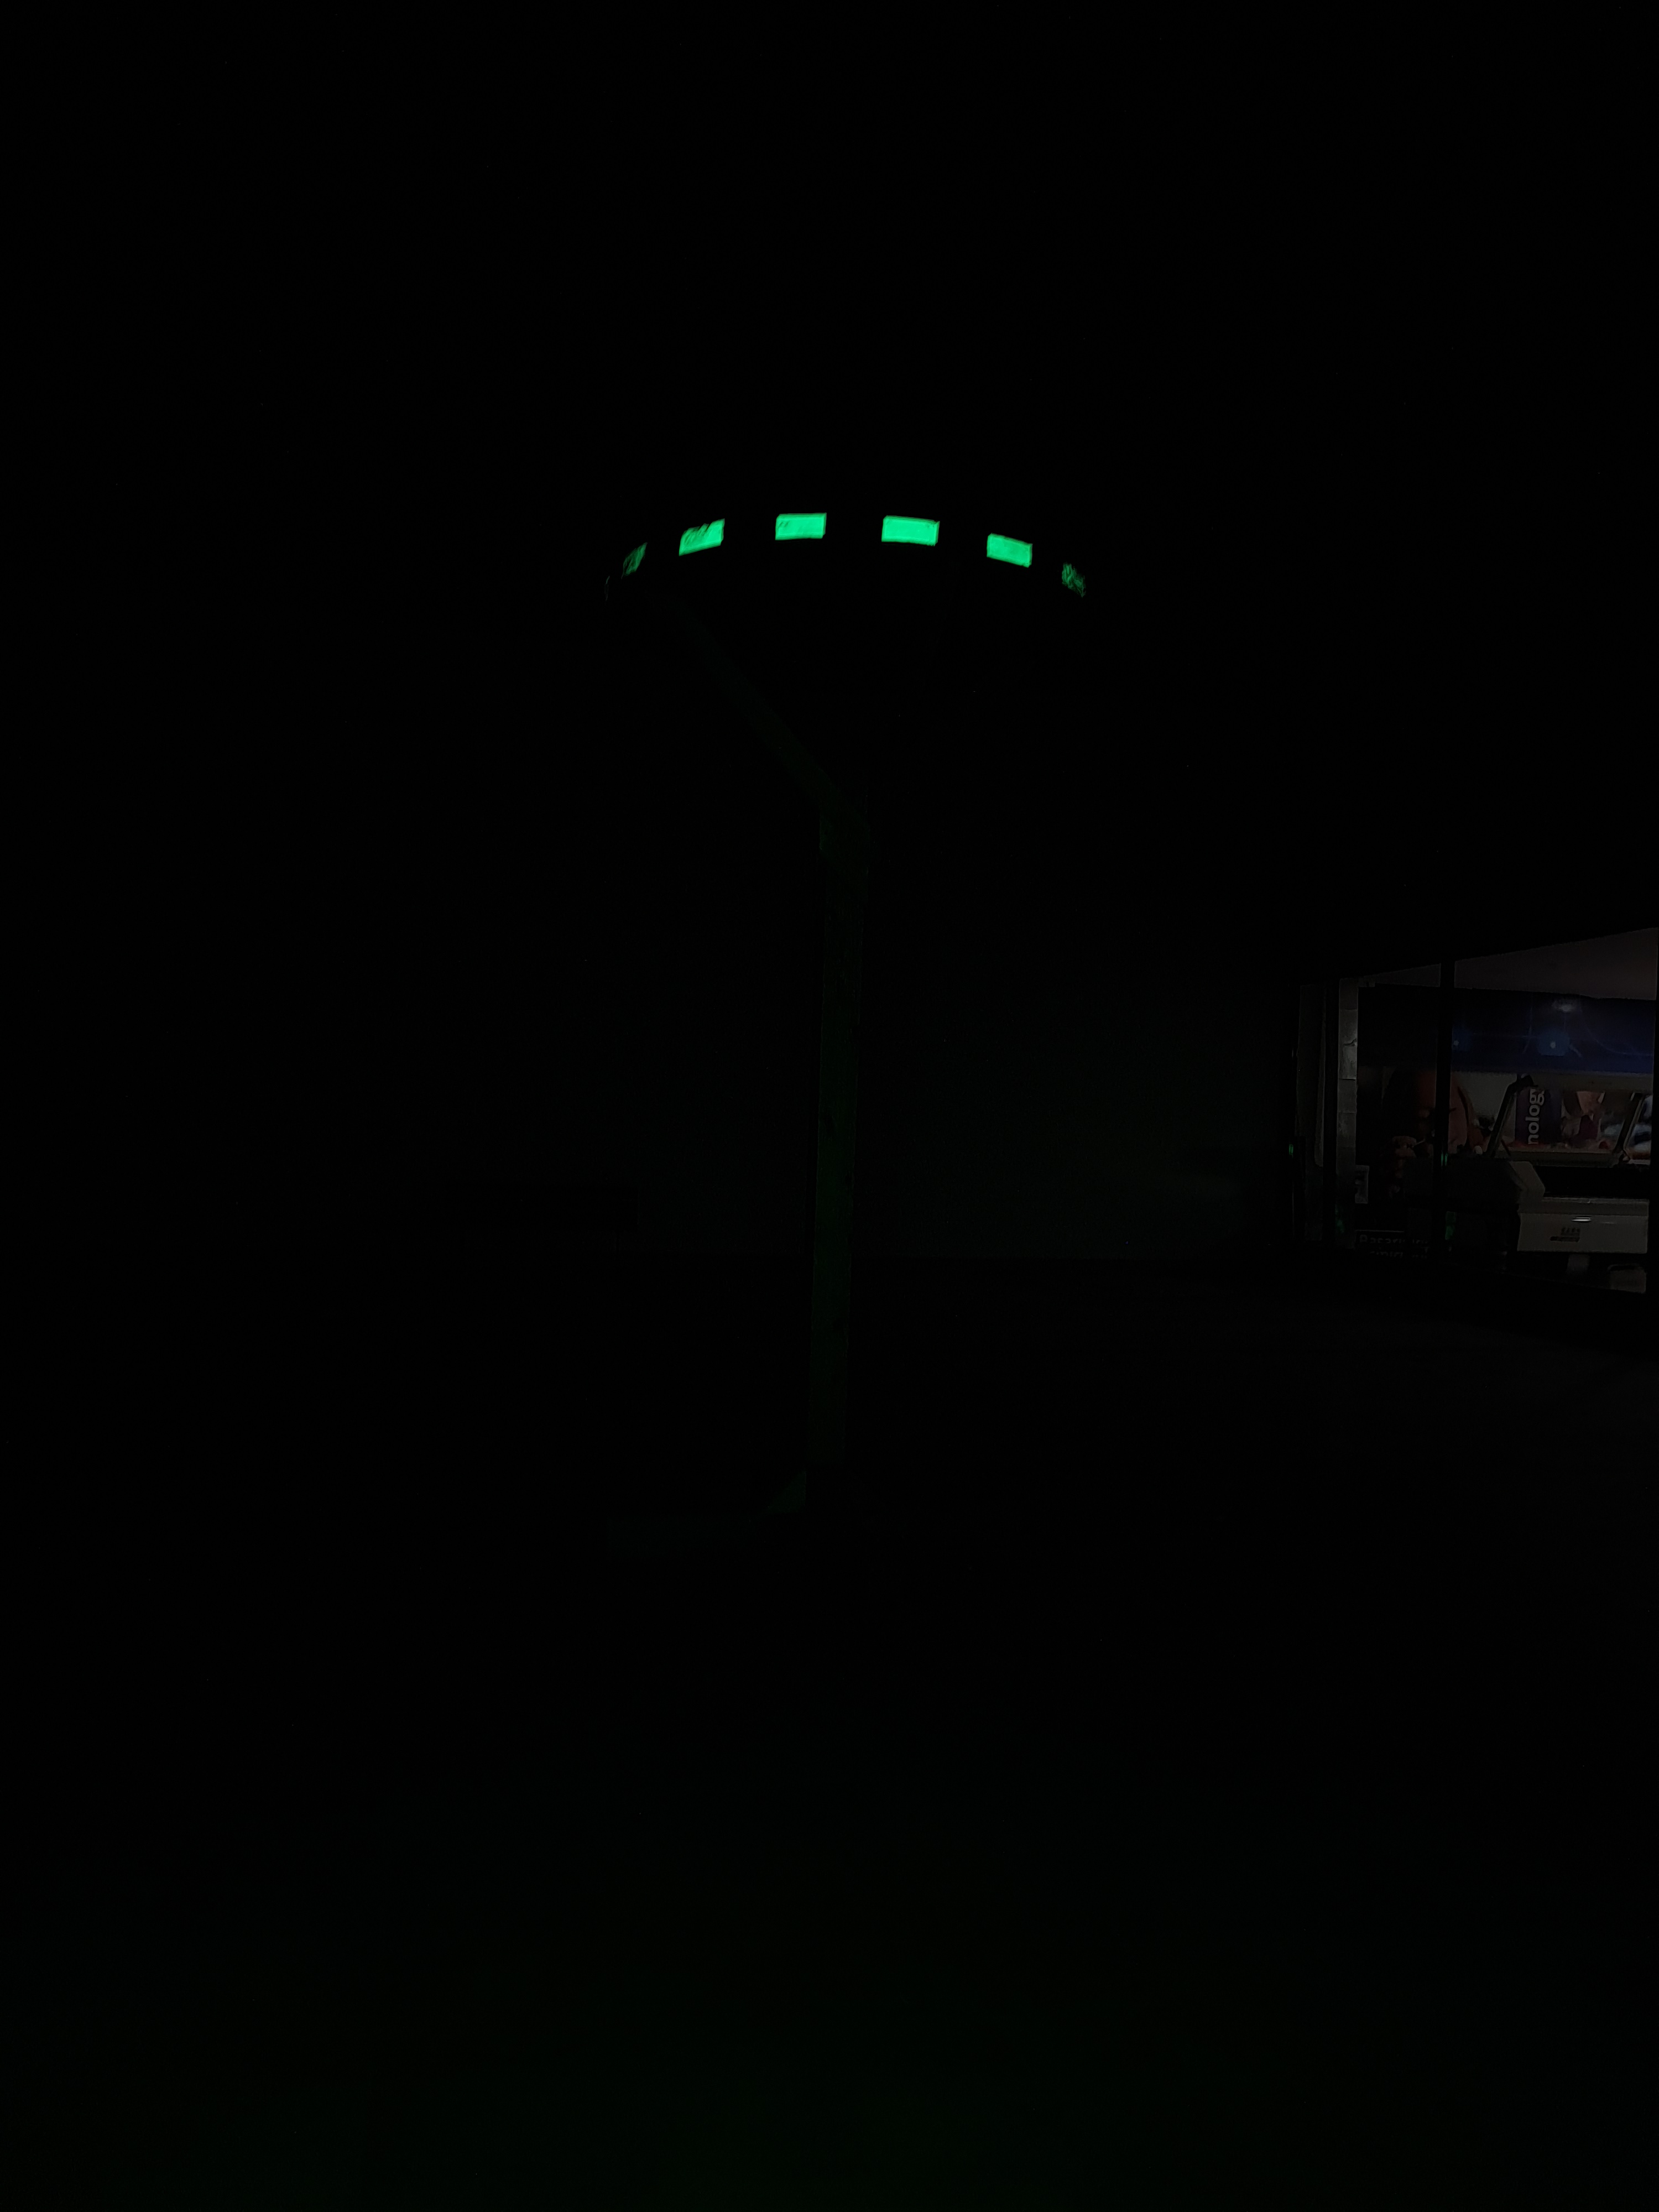hoop: (579, 512, 1108, 620)
